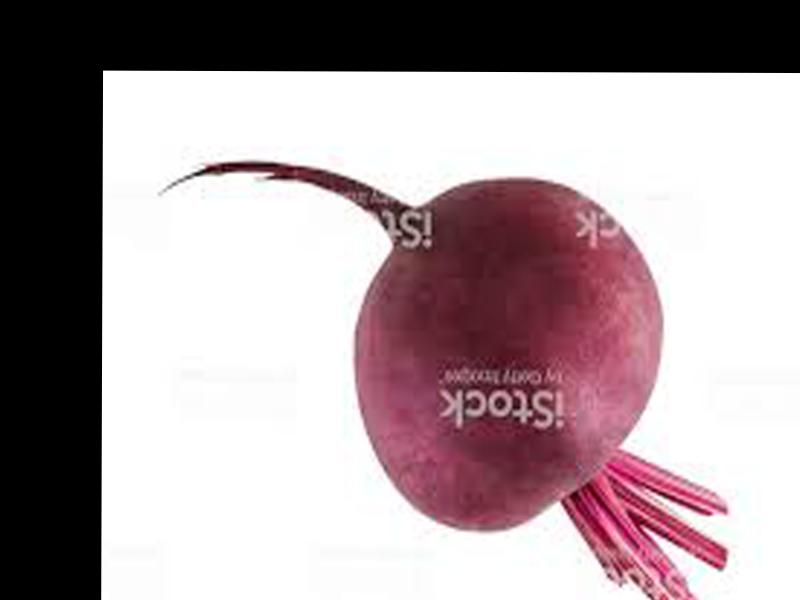Beet: (158, 165, 730, 600)
